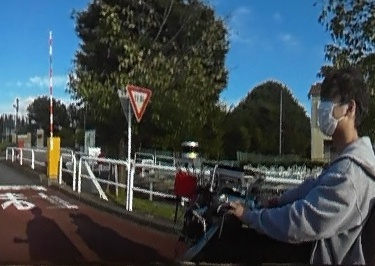person: (297, 70, 375, 266)
